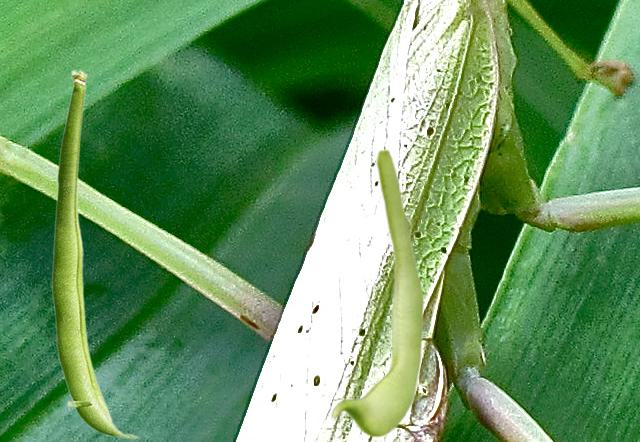french_bean: (51, 69, 139, 438), (330, 147, 423, 436)
